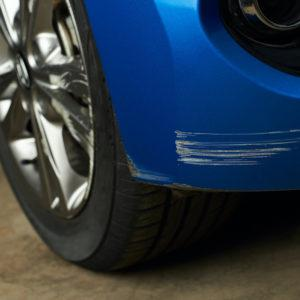front-bumper-dent: (99, 1, 299, 196)
